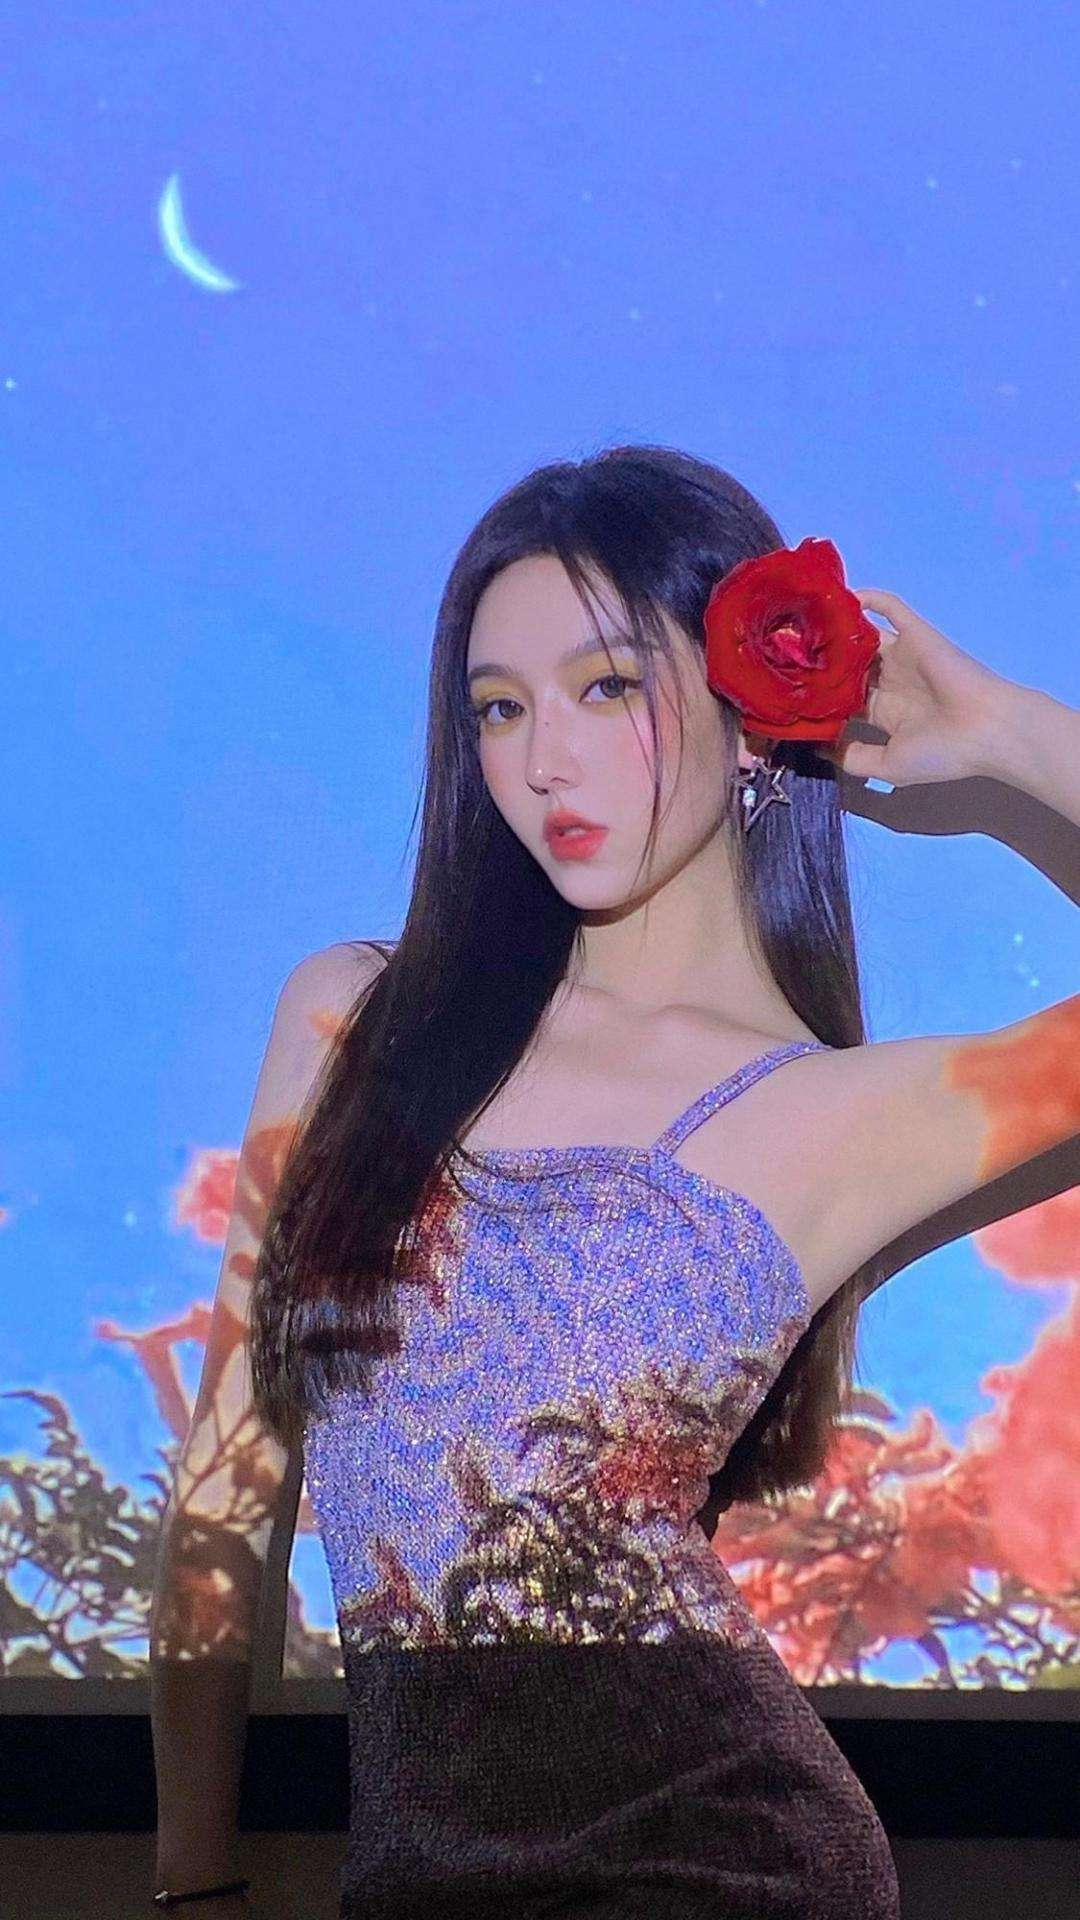person: (177, 390, 847, 1641)
